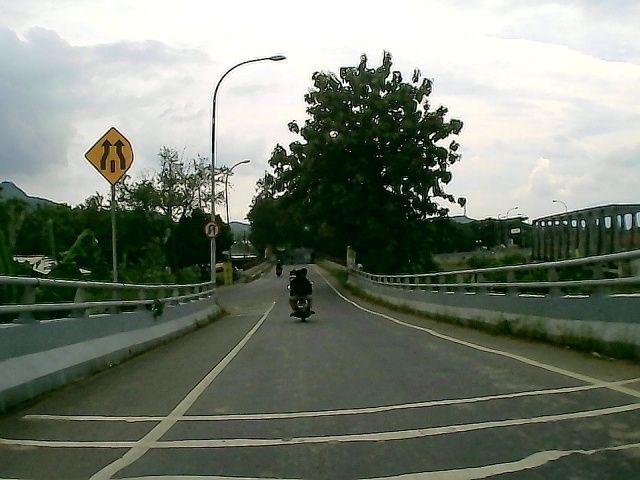Akhir bangunan pemisah satu arah: (83, 124, 139, 189)
Dilarang berbalik arah: (202, 219, 219, 240)
